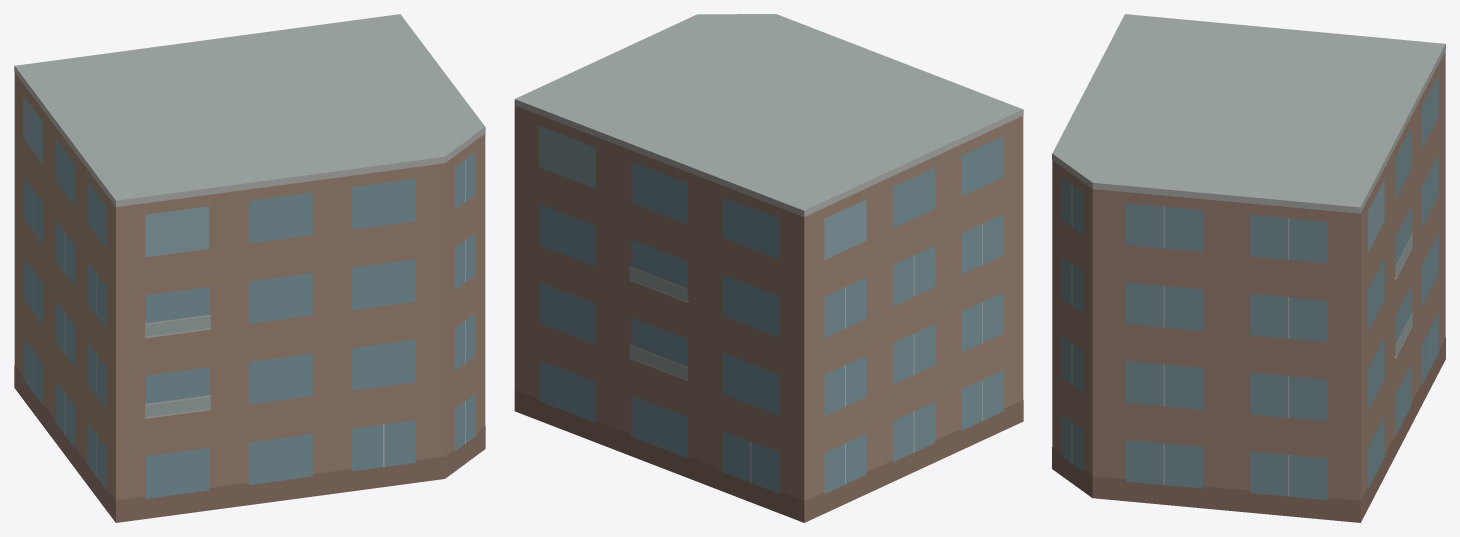
Rendered from residential-e3ed6e7d-5d43-4272-8a5c-4c723ca9bc9f.glb.
The picture shows the model from 3 angles, left to right: view 1: azimuth 30°, elevation 25°; view 2: azimuth 150°, elevation 25°; view 3: azimuth 270°, elevation 25°; orthographic projection. The views are drawn at different scales.
Visible parts, largest first — view 1: residential-e3ed6e7d-5d43-4272-8a5c-4c723ca9bc9f.tmp; view 2: residential-e3ed6e7d-5d43-4272-8a5c-4c723ca9bc9f.tmp; view 3: residential-e3ed6e7d-5d43-4272-8a5c-4c723ca9bc9f.tmp.
Part boxes in pixels (x1,y1,x2,y2): residential-e3ed6e7d-5d43-4272-8a5c-4c723ca9bc9f.tmp: (14, 14, 485, 522); residential-e3ed6e7d-5d43-4272-8a5c-4c723ca9bc9f.tmp: (514, 14, 1023, 522); residential-e3ed6e7d-5d43-4272-8a5c-4c723ca9bc9f.tmp: (1052, 14, 1445, 522).
Bounding box in the file's own units: 16.06 × 12.2 × 13.8.
